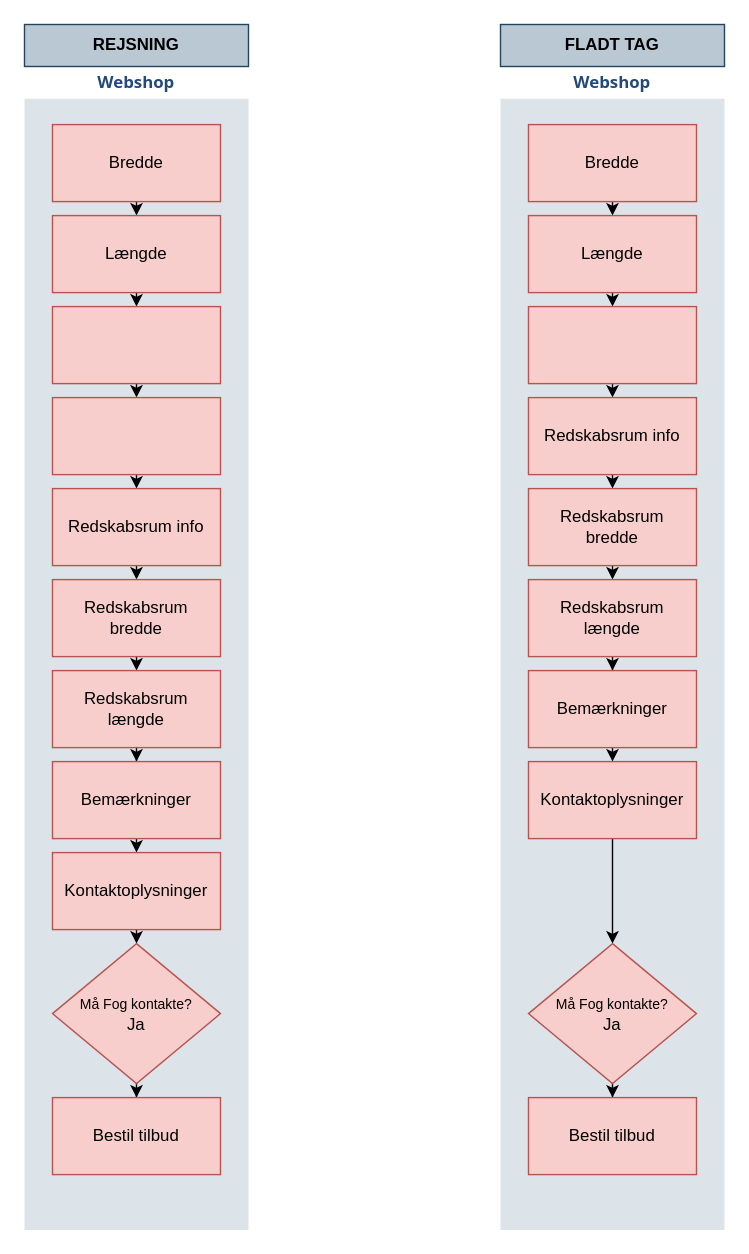
Some shapes in this 749 by 1254 pixel diagram are drawn without their labels. The box of each missing label's shape, as (x1, y1, x2, y2) in pixels:
Tag hældning: (51, 396, 220, 475)
Tag Type: (51, 305, 220, 384)
Trapeztag: (527, 305, 696, 384)
